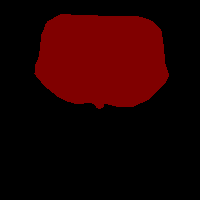mutande: (34, 13, 169, 109)
